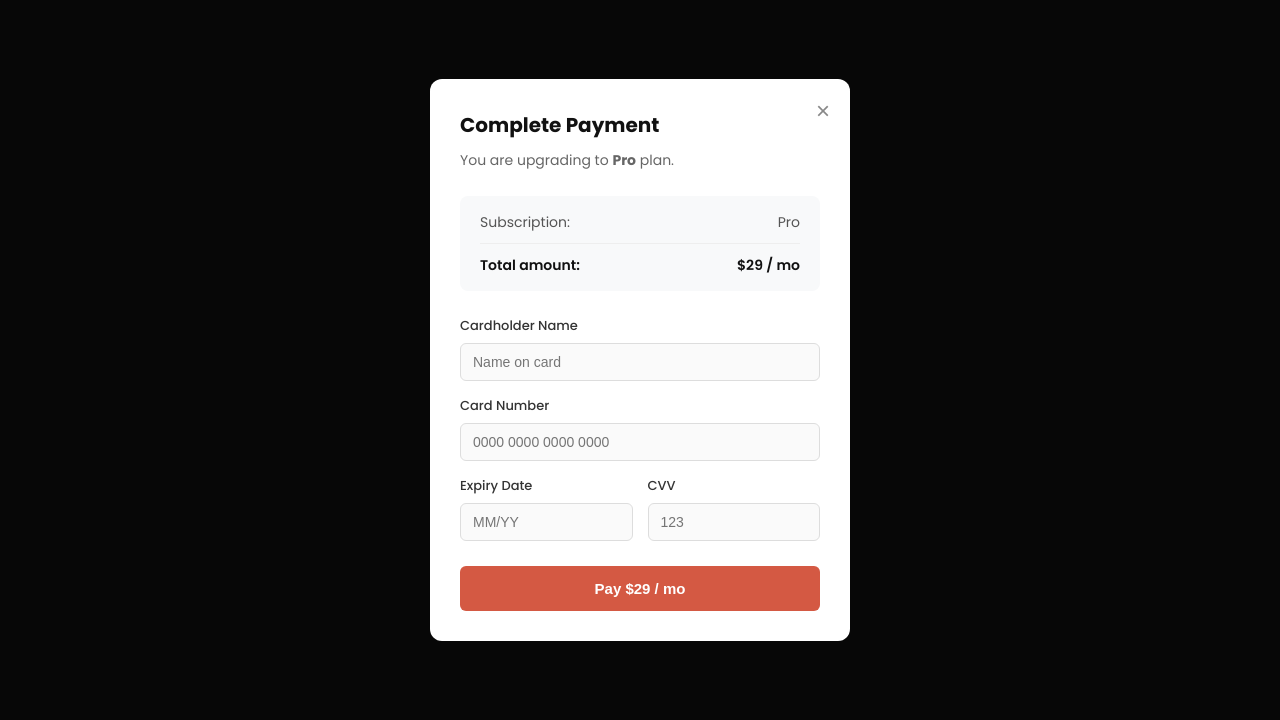
Test: PaymentModal Validation Features › Should flag missing card numbers missing explicit format bounds
Type "James" into the field with placeholder "Name on card".
click(640, 362); type("James")  # box [460, 343, 820, 381]
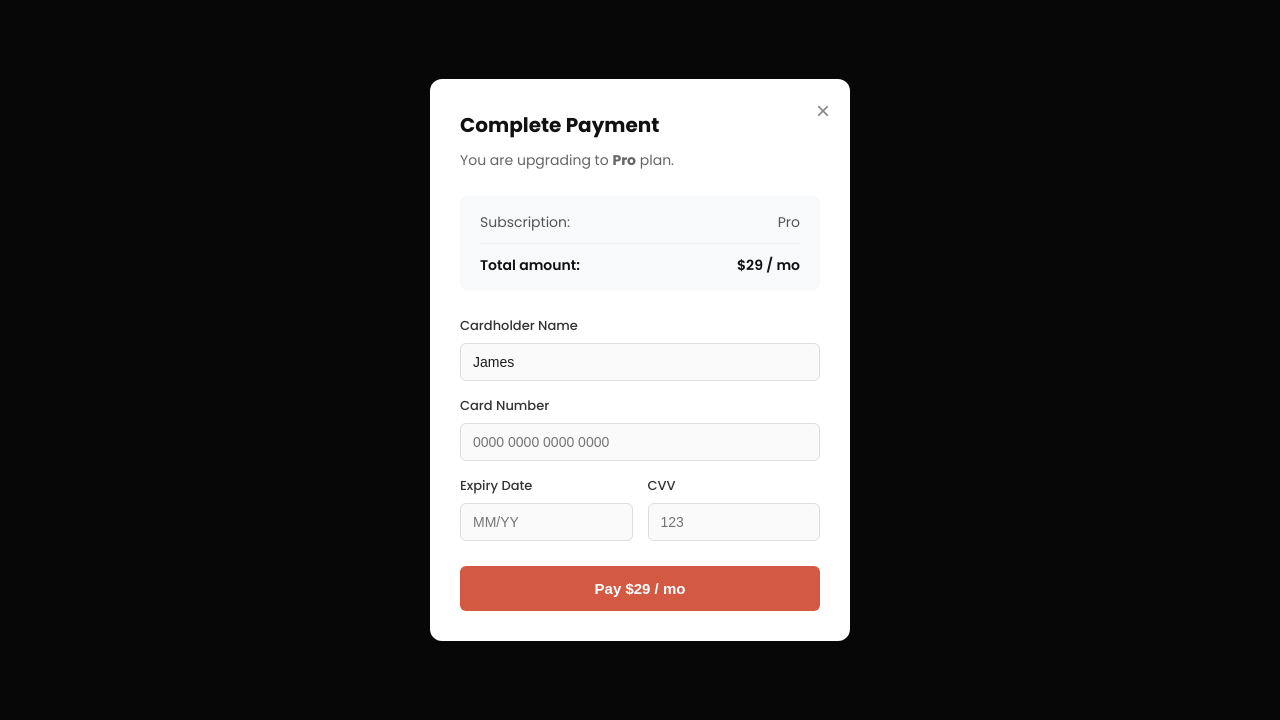
Type "123" into the field with placeholder "0000 0000 0000 0000".
click(640, 442); type("123")  # box [460, 423, 820, 461]
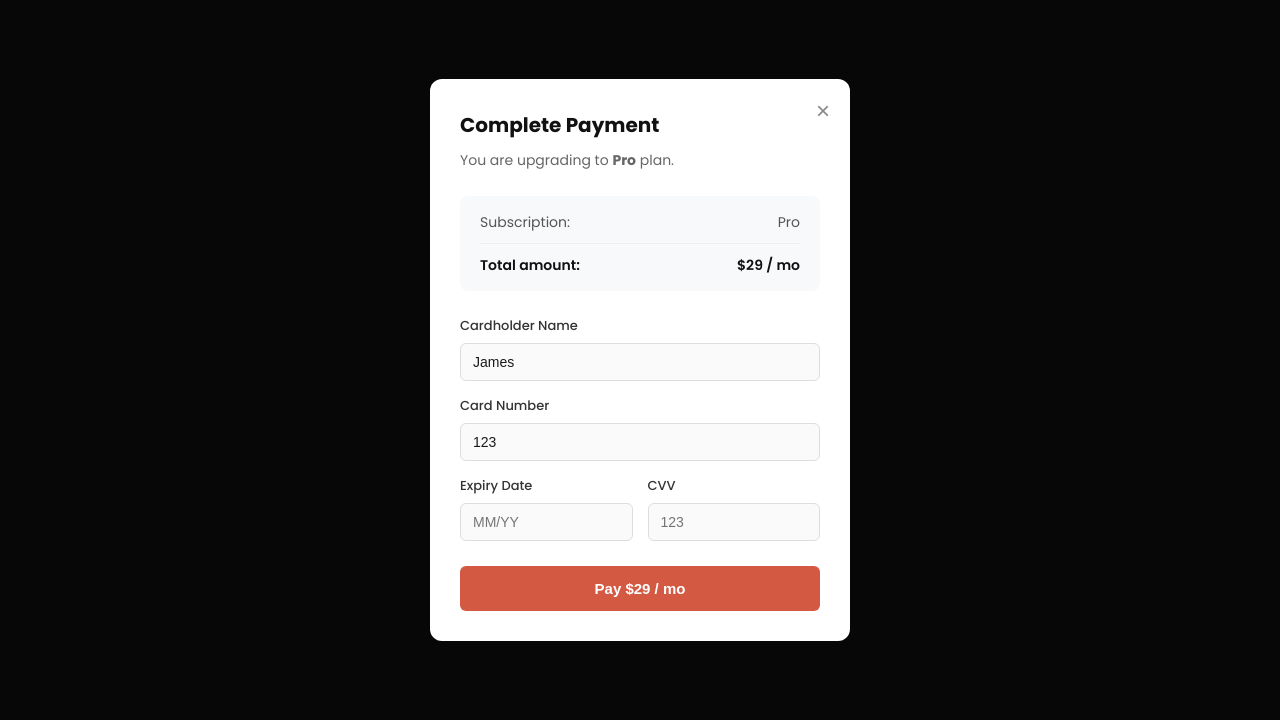
Click the button "Pay $29 / mo".
click(640, 588)  # box [460, 566, 820, 611]
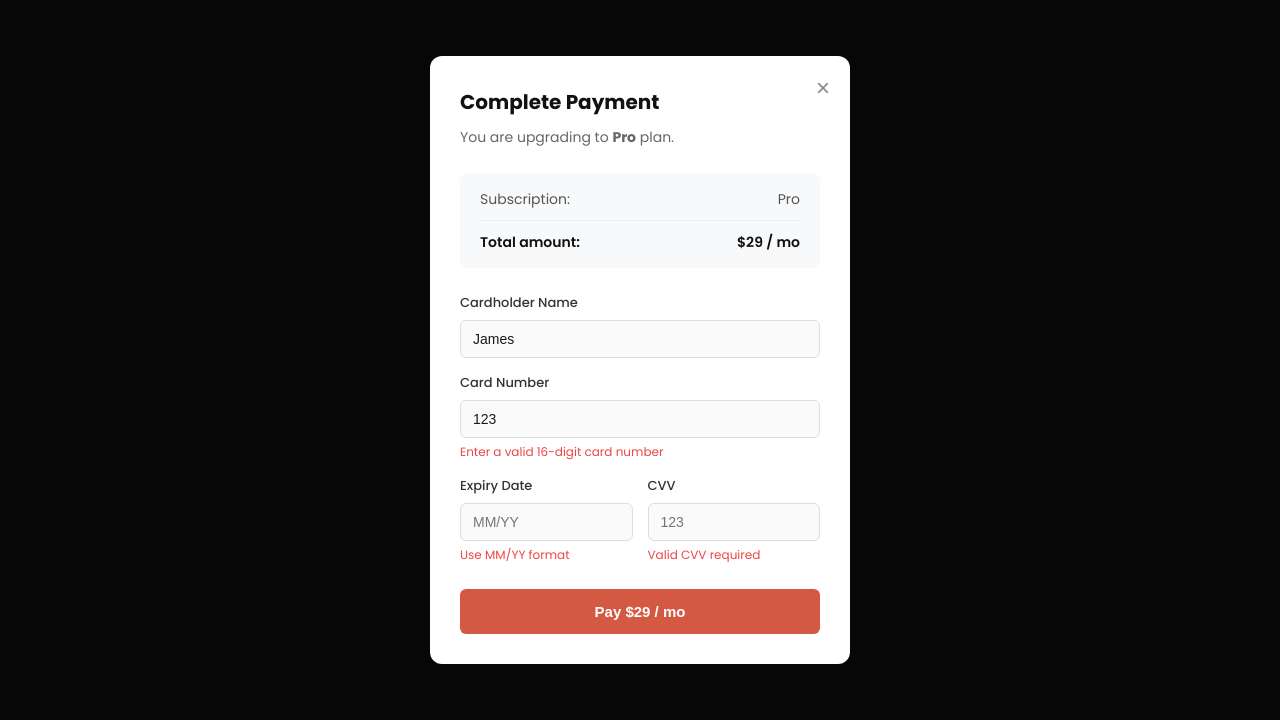
expect the text "Enter a valid 16-digit card number" is shown: met, box [460, 443, 663, 460]
